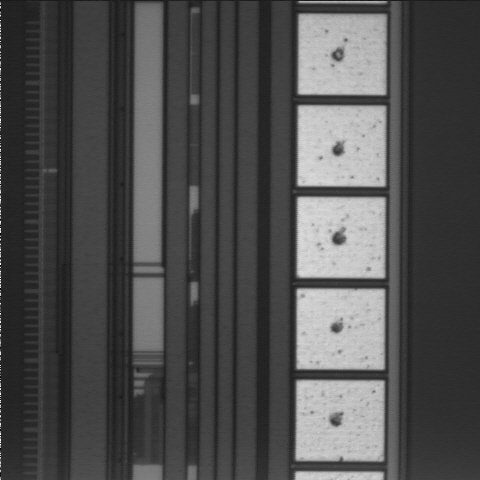pad: (297, 197, 385, 278), (298, 106, 385, 186), (297, 289, 384, 369), (296, 381, 384, 460), (299, 15, 385, 94)
